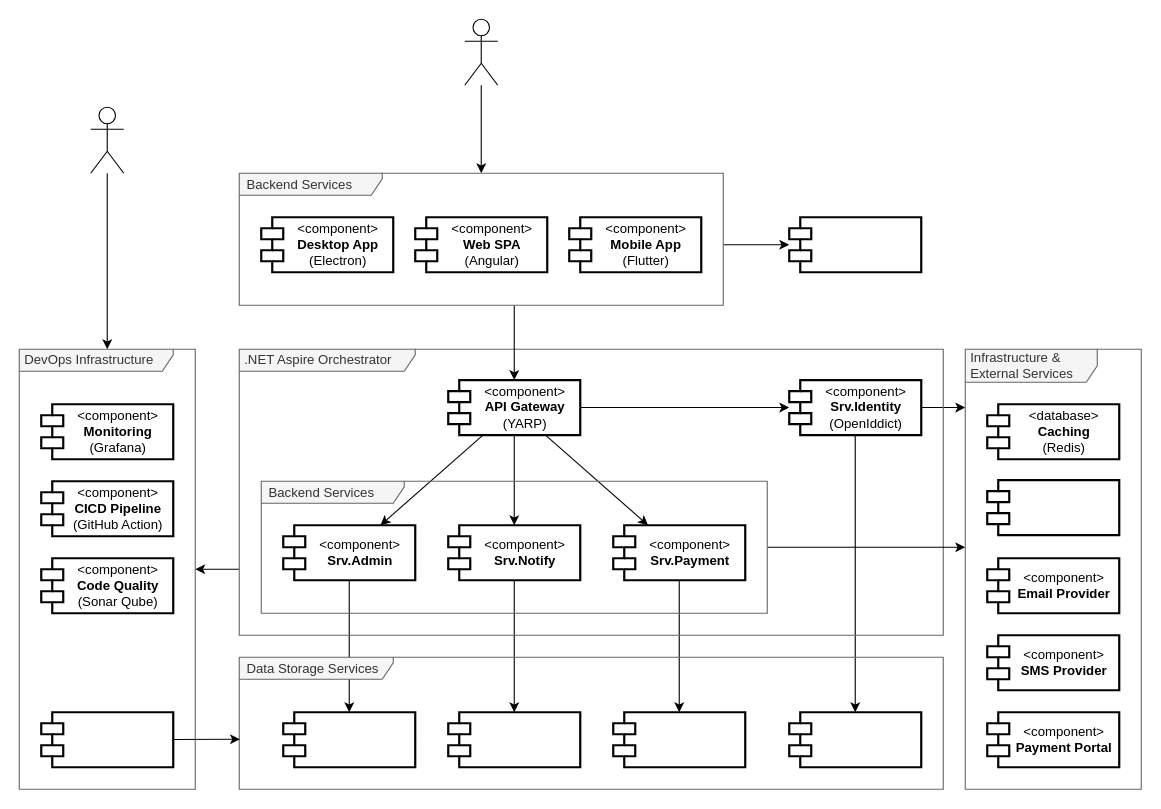
This 1161x809 diagram has some shape labels left out. Here are the shapes that lost their labels. From the top down, the centre of each, then its label:
At (x=481, y=51): "User".
At (x=107, y=139): "DevOps".
At (x=855, y=244): "<component> CDN (Cloudflare)".
At (x=1053, y=507): "<component> Event Queue (Kafka)".
At (x=107, y=739): "<component> DbMigrator".
At (x=349, y=739): "<database> Db.Admin (MongoDB)".
At (x=514, y=739): "<database> Db.Notify (MongoDB)".
At (x=679, y=739): "<database> Db.Payment (SQL Server)".
At (x=855, y=739): "<database> Db.Identity (SQL Server)".
